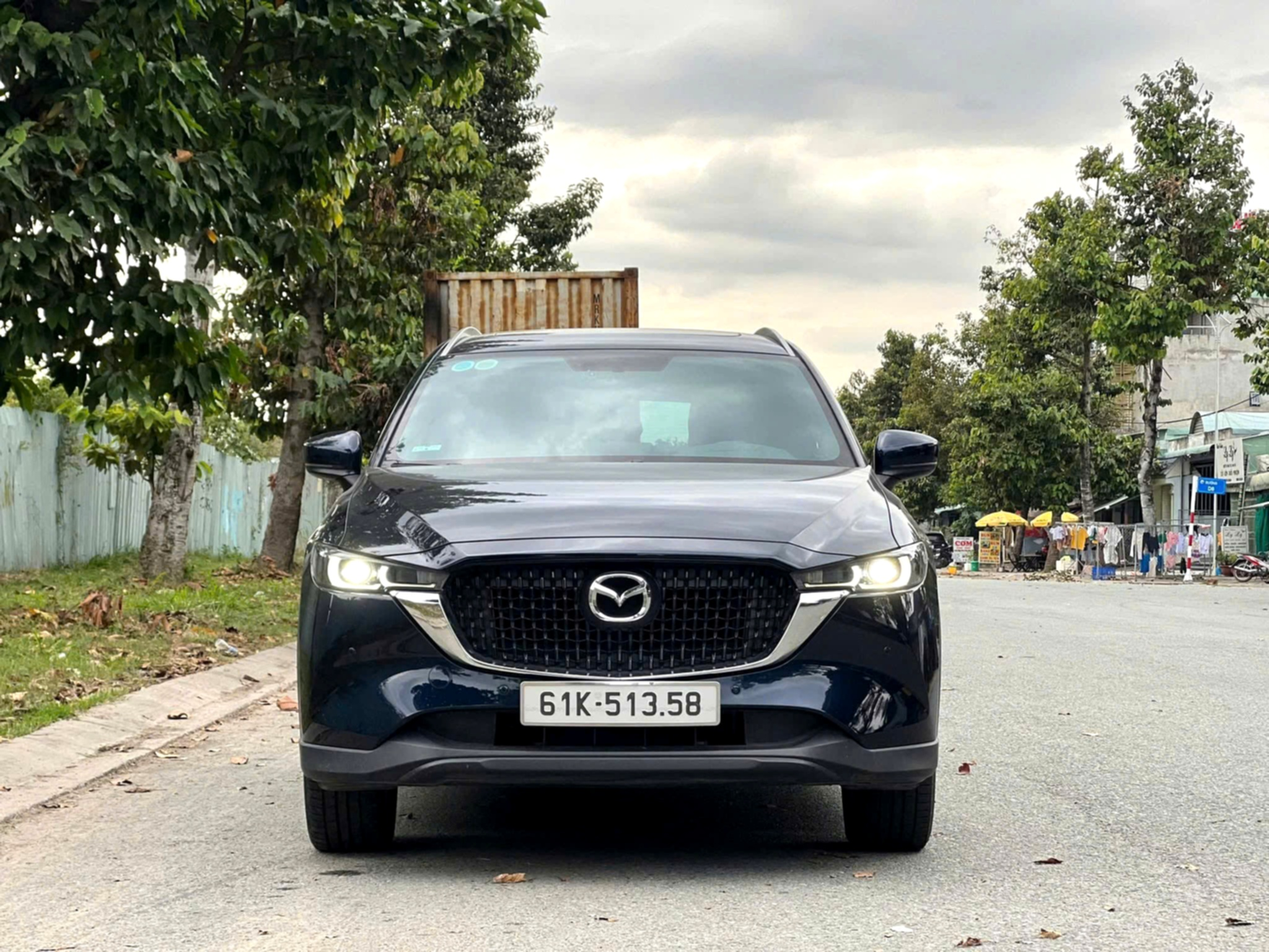Bien-so: (519, 681, 711, 733)
